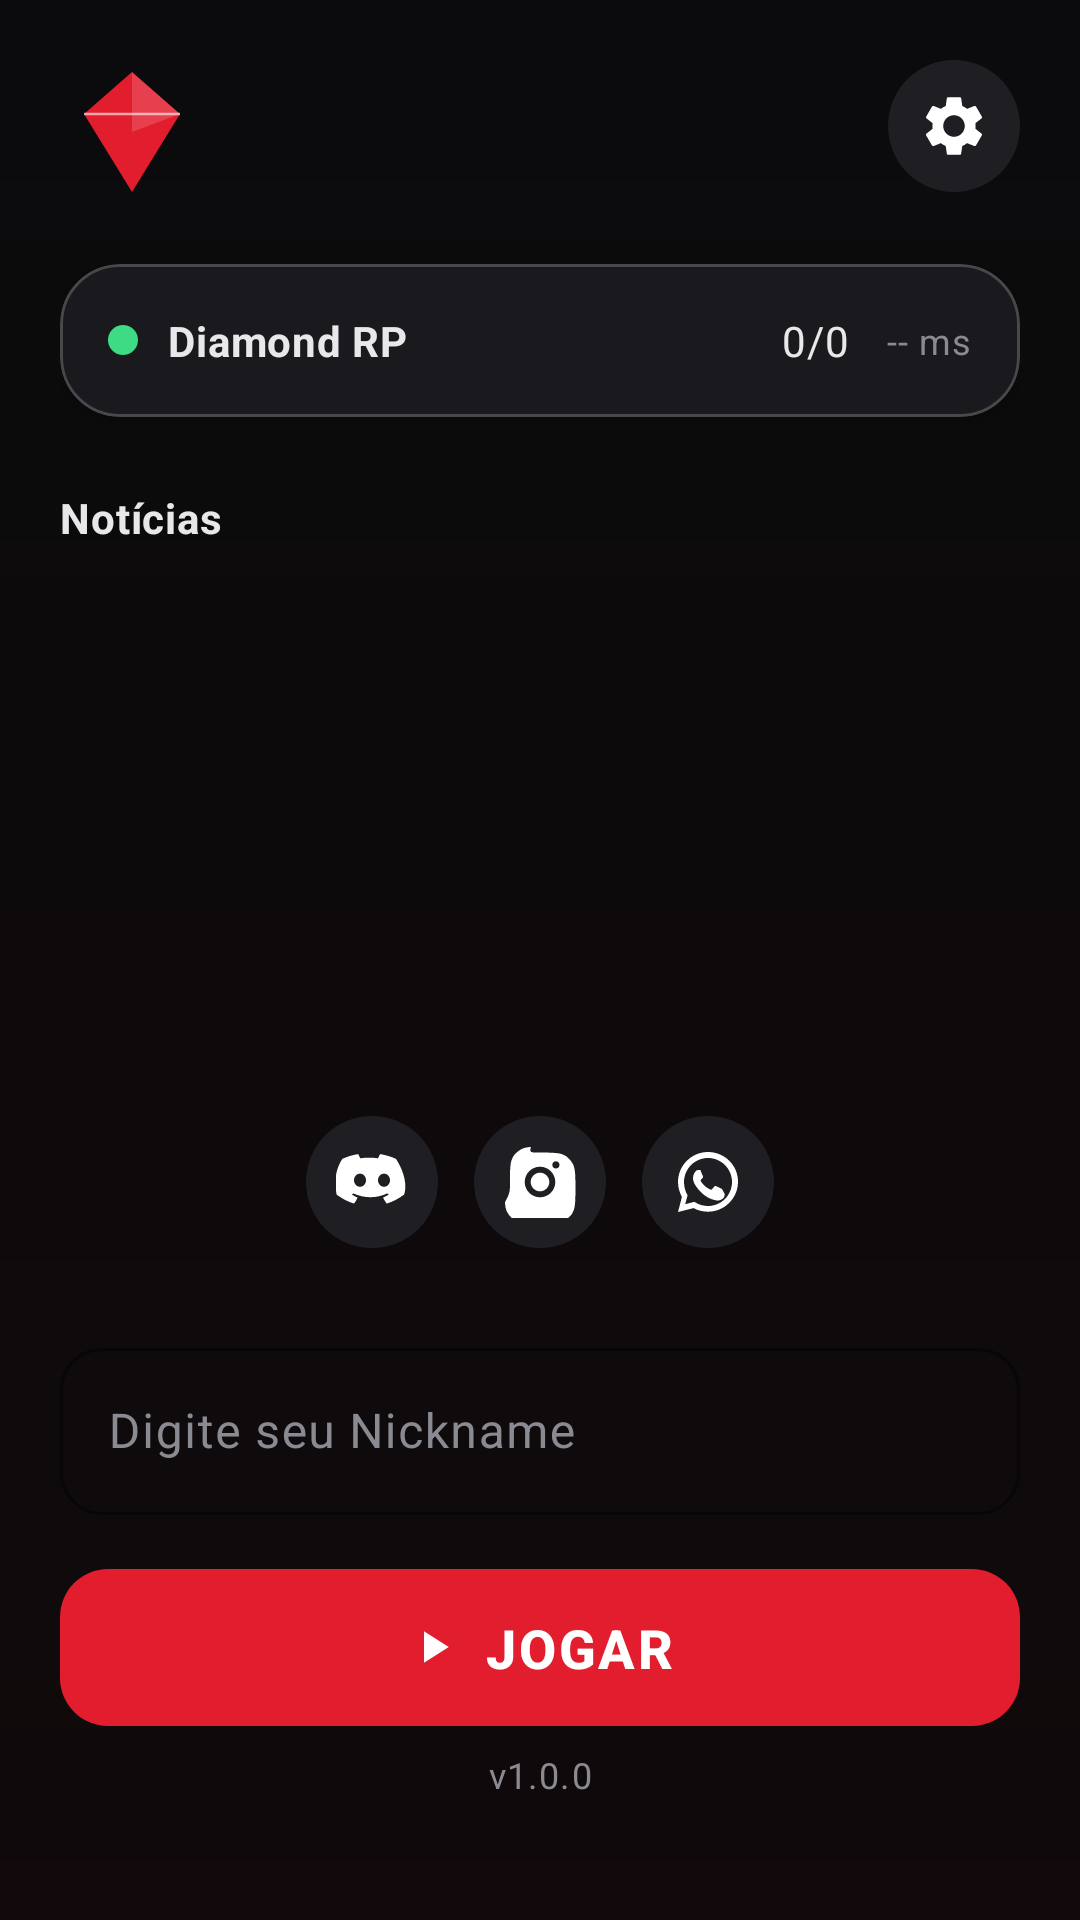

Named icons in this screenshot (1080 × 1920) and their centers, (x=x, y=y):
Configurações: (x=954, y=126)
